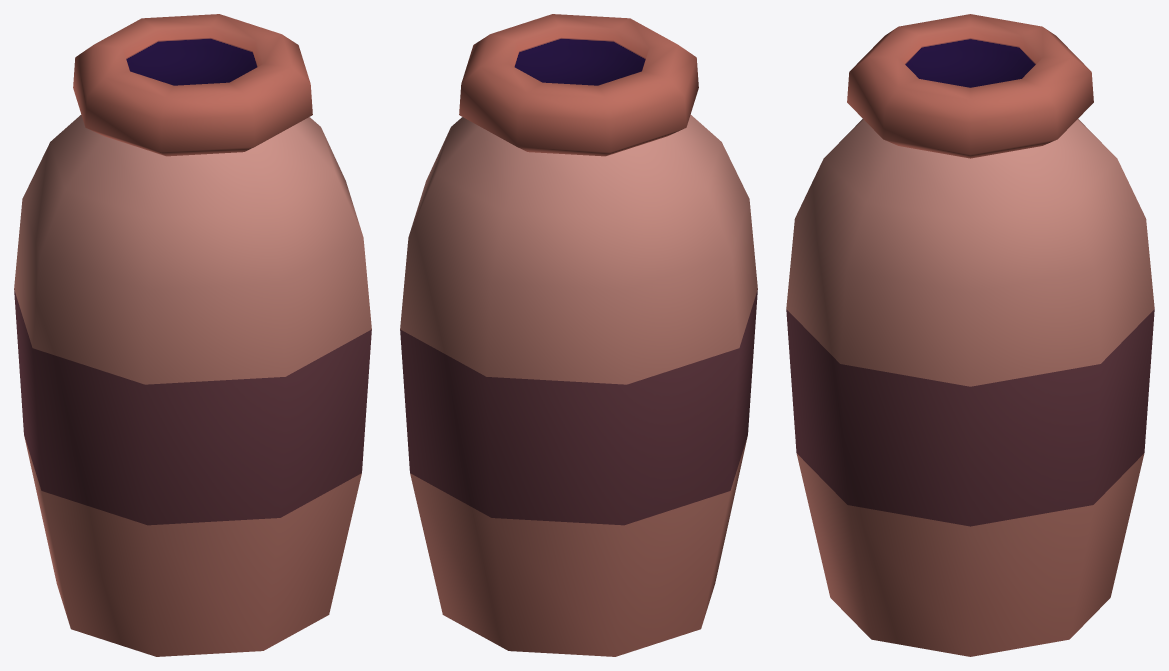
File: Vase15.fbx
3 renders of one model, left to right at view 1: azimuth 30°, elevation 25°; view 2: azimuth 150°, elevation 25°; view 3: azimuth 270°, elevation 25°, orthographic.
Visible parts, largest first — view 1: Vase15; view 2: Vase15; view 3: Vase15.
Boxes of the visible parts, x1,y1,x2,y2 form: Vase15: [14, 14, 371, 656]; Vase15: [400, 14, 757, 656]; Vase15: [786, 14, 1154, 656].
Size of the model in its own units: 52.56 by 85.1 by 52.56.
